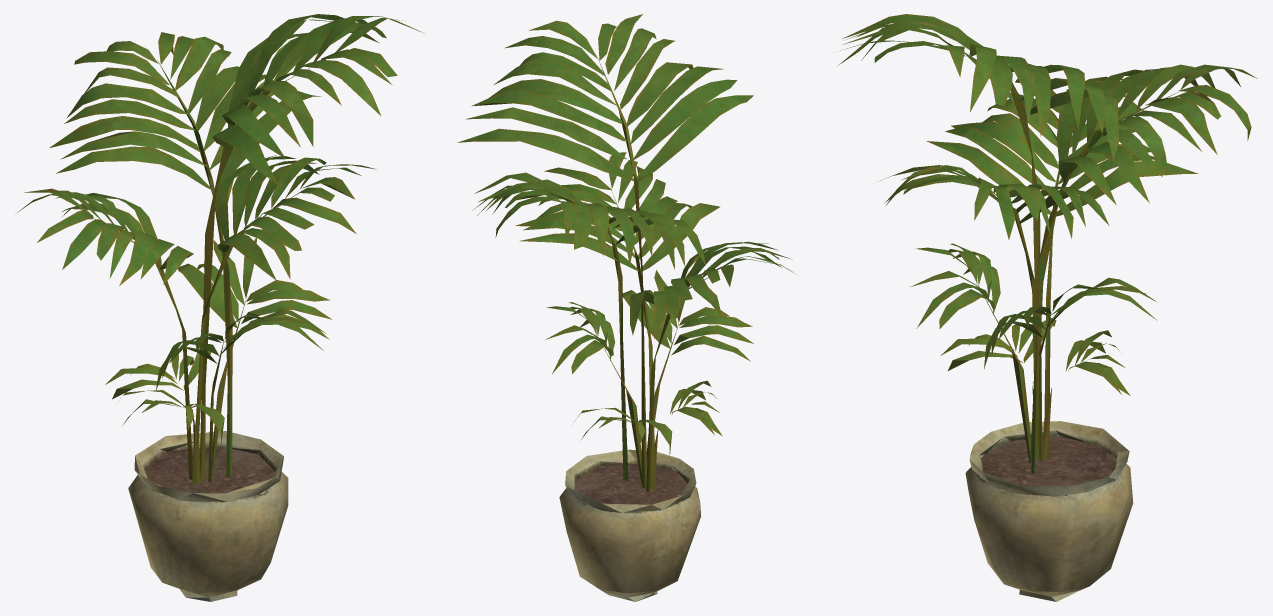
Rendered from plant-potted-medium.lod1.glb.
The picture shows the model from 3 angles, left to right: view 1: azimuth 30°, elevation 25°; view 2: azimuth 150°, elevation 25°; view 3: azimuth 270°, elevation 25°; orthographic projection. The views are drawn at different scales.
Visible parts, largest first — view 1: plant-potted-medium; view 2: plant-potted-medium; view 3: plant-potted-medium.
Boxes of the visible parts, x1,y1,x2,y2 form: plant-potted-medium: (17, 14, 424, 601); plant-potted-medium: (457, 14, 796, 601); plant-potted-medium: (838, 14, 1257, 601).
Size of the model in its own units: 0.5105 by 0.7748 by 0.4973.
Materials: 1 (1 with a texture image).
